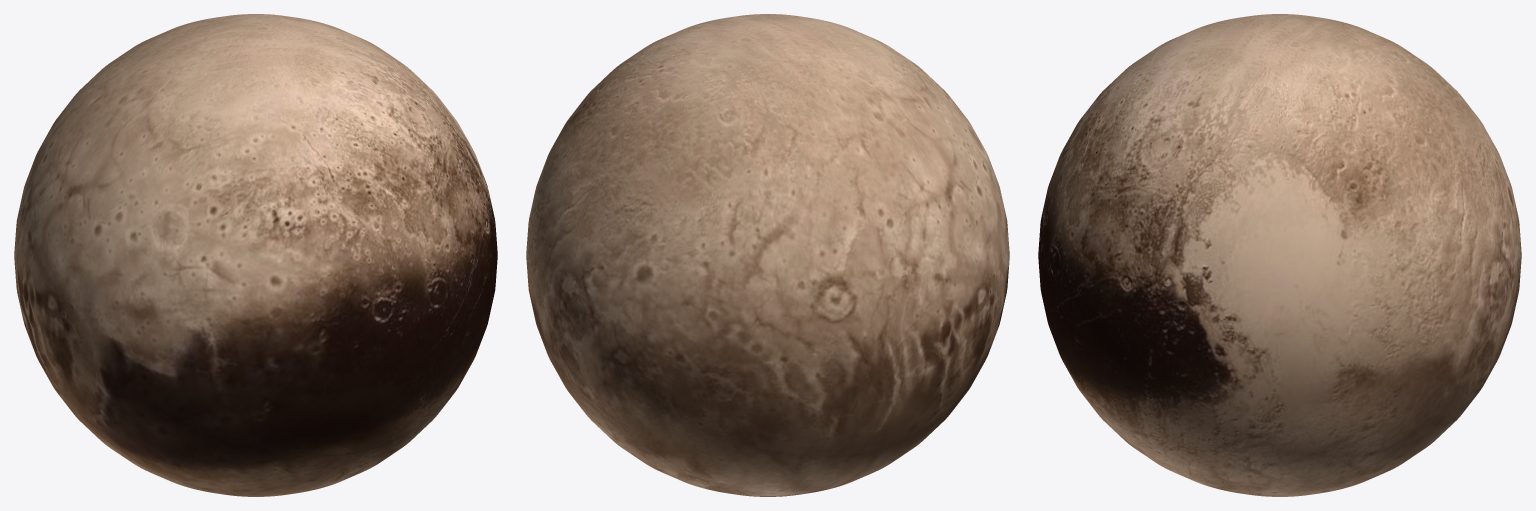
Rendered from pluto.obj.
3 views of the same model, side by side, from view 1: azimuth 30°, elevation 25°; view 2: azimuth 150°, elevation 25°; view 3: azimuth 270°, elevation 25° (orthographic).
Visible parts, largest first — view 1: Sphere_Material002_0; view 2: Sphere_Material002_0; view 3: Sphere_Material002_0.
Boxes of the visible parts, bbox=[...] form: Sphere_Material002_0: bbox=[14, 14, 497, 496]; Sphere_Material002_0: bbox=[526, 14, 1009, 496]; Sphere_Material002_0: bbox=[1038, 14, 1521, 496].
Size of the model in its own units: 200 by 200 by 200.
Materials: 1 (1 with a texture image).
